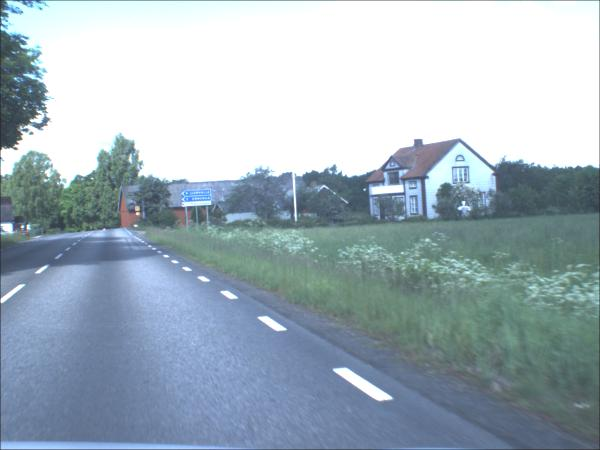50_SIGN: (136, 207, 142, 213)
PRIORITY_ROAD: (137, 213, 142, 217)
